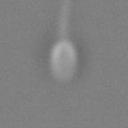normal: (49, 1, 78, 40)
